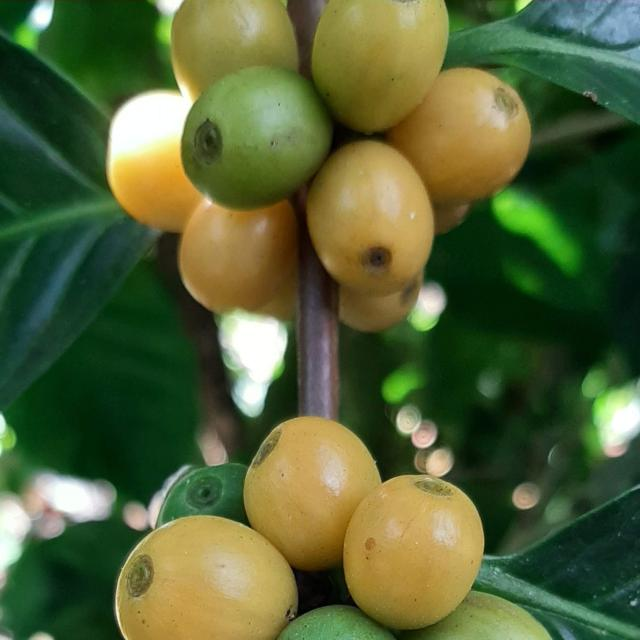green: (181, 66, 333, 210), (312, 0, 449, 132), (170, 0, 298, 101), (400, 592, 553, 640), (156, 464, 248, 528), (278, 606, 396, 640)
red: (115, 517, 297, 640), (343, 476, 485, 631), (244, 417, 381, 572), (388, 67, 532, 204), (307, 140, 434, 295), (106, 90, 201, 232), (179, 199, 298, 312), (339, 270, 424, 333)
